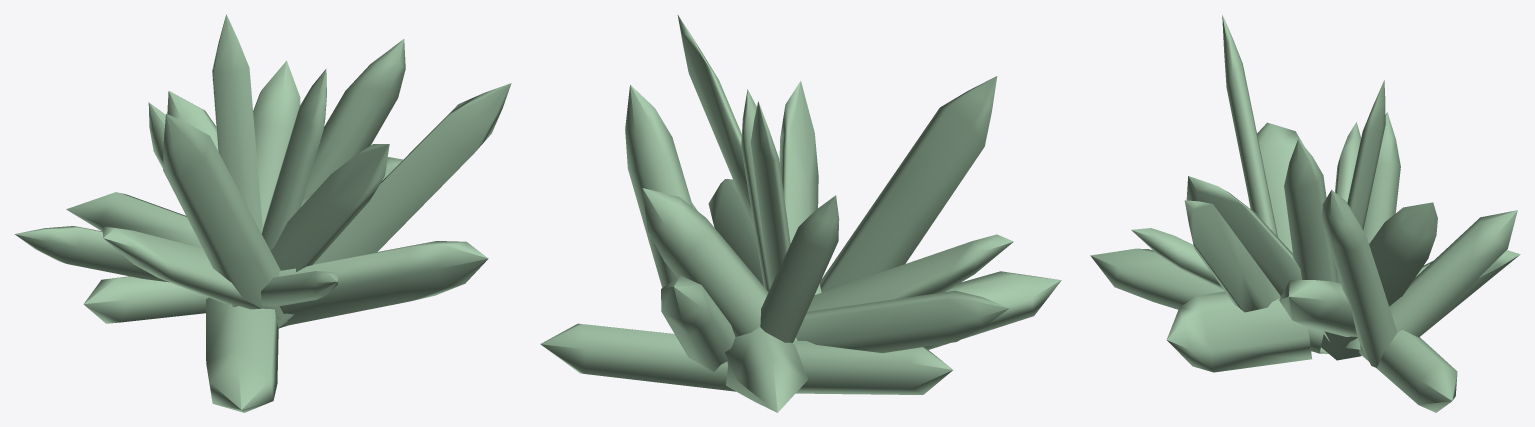
The model's file is Grass1.fbx.
3 views of the same model, side by side, from view 1: azimuth 30°, elevation 25°; view 2: azimuth 150°, elevation 25°; view 3: azimuth 270°, elevation 25° (orthographic). The views are drawn at different scales.
Visible parts, largest first — view 1: polySurface3; view 2: polySurface3; view 3: polySurface3.
Boxes of the visible parts, x1,y1,x2,y2 form: polySurface3: [14, 14, 511, 412]; polySurface3: [540, 14, 1061, 412]; polySurface3: [1090, 15, 1520, 412].
Size of the model in its own units: 2.68 by 1.85 by 2.55.
